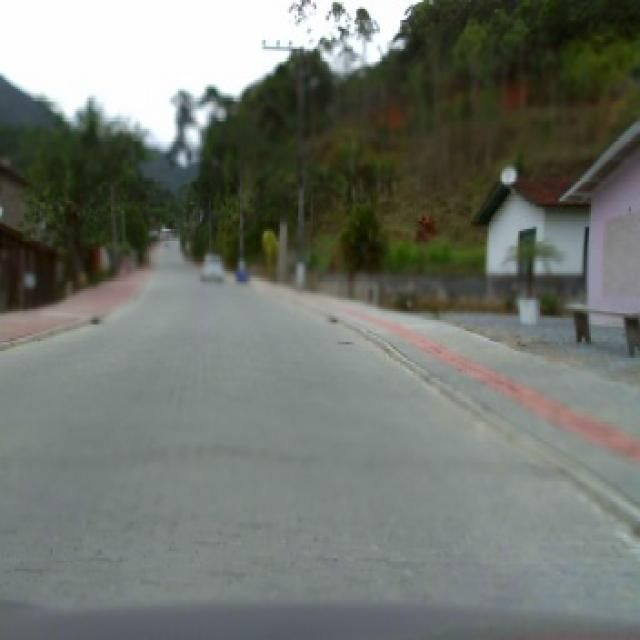Poth-hole: (87, 316, 98, 324), (326, 314, 336, 322)
